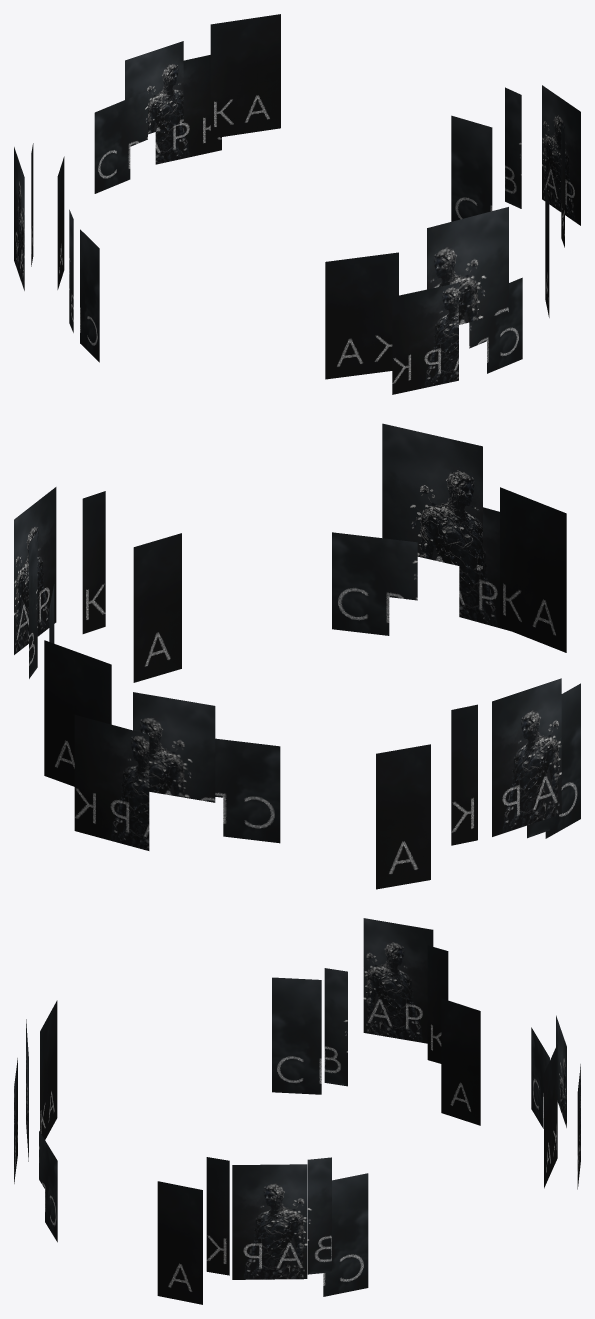
File: Screens.fbx
3 views of the same model, one above another, from view 1: azimuth 30°, elevation 25°; view 2: azimuth 150°, elevation 25°; view 3: azimuth 270°, elevation 25° (orthographic). The views are drawn at different scales.
Parts seen in each view (by area): view 1: Main-screen-017, Main-screen-003, Main-screen-016, Main-screen-015, Main-screen-013, Main-screen-010, Main-screen-001, Main-screen-000, Main-screen-002, Main-screen-014, Main-screen-006, Main-screen-011 (+4 smaller); view 2: Main-screen-016, Main-screen-004, Main-screen-017, Main-screen-001, Main-screen-005, Main-screen-014, Main-screen-002, Main-screen-009, Main-screen-003, Main-screen-000, Main-screen-013, Main-screen-008 (+4 smaller); view 3: Main-screen-013, Main-screen-004, Main-screen-006, Main-screen-009, Main-screen-005, Main-screen-010, Main-screen-011, Main-screen-012, Main-screen-007, Main-screen-017, Main-screen-008, Main-screen-003 (+3 smaller).
Boxes of the visible parts, box(x1,y1,x2,y2) form: Main-screen-017: box(325, 252, 398, 379); Main-screen-003: box(210, 14, 280, 138); Main-screen-016: box(427, 207, 508, 324); Main-screen-015: box(392, 282, 458, 394); Main-screen-013: box(542, 85, 580, 225); Main-screen-010: box(451, 115, 492, 221); Main-screen-001: box(155, 55, 221, 164); Main-screen-000: box(94, 90, 147, 193); Main-screen-002: box(125, 41, 183, 134); Main-screen-014: box(469, 277, 522, 373); Main-screen-006: box(80, 229, 99, 362); Main-screen-011: box(505, 87, 521, 208); Main-screen-016: box(382, 423, 482, 571); Main-screen-004: box(492, 678, 561, 836); Main-screen-017: box(500, 487, 566, 652); Main-screen-001: box(74, 715, 149, 850); Main-screen-005: box(376, 744, 430, 889); Main-screen-014: box(332, 532, 417, 635); Main-screen-002: box(133, 692, 215, 802); Main-screen-009: box(133, 533, 181, 682); Main-screen-003: box(44, 640, 111, 786); Main-screen-000: box(215, 738, 280, 843); Main-screen-013: box(14, 487, 56, 654); Main-screen-008: box(451, 704, 477, 845); Main-screen-013: box(232, 1164, 307, 1279); Main-screen-004: box(363, 918, 433, 1043); Main-screen-006: box(272, 977, 321, 1094); Main-screen-009: box(157, 1181, 202, 1304); Main-screen-005: box(441, 998, 480, 1125); Main-screen-010: box(323, 1173, 368, 1296); Main-screen-011: box(307, 1157, 331, 1274); Main-screen-012: box(206, 1157, 229, 1275); Main-screen-007: box(324, 968, 347, 1086); Main-screen-017: box(40, 1000, 57, 1139); Main-screen-008: box(427, 945, 448, 1063); Main-screen-003: box(544, 1044, 557, 1188).
Bounding box in the file's own units: 48.55 × 17.49 × 48.33.
